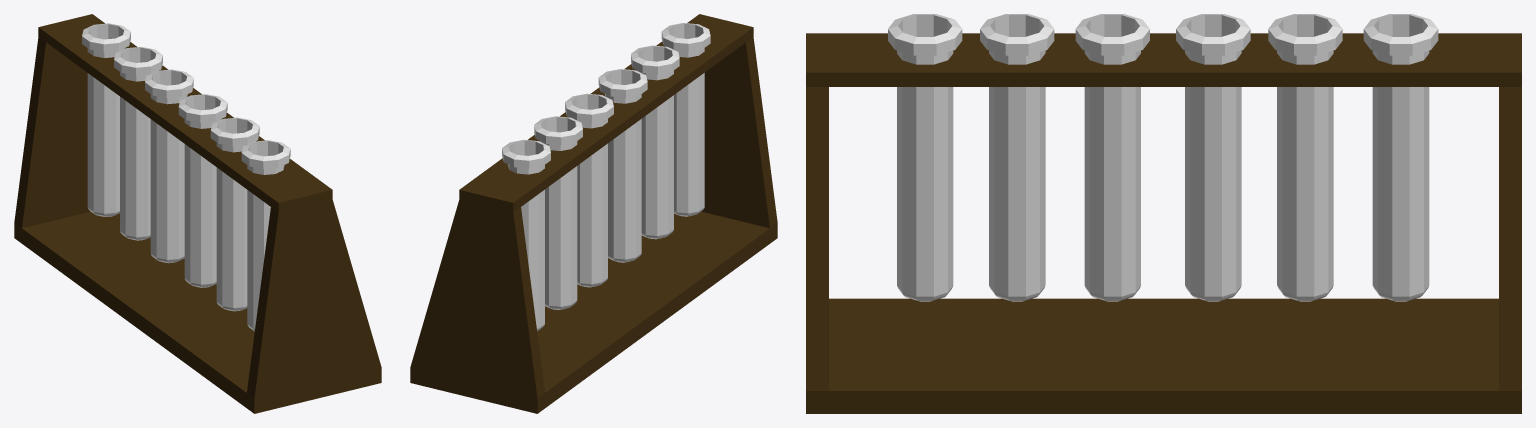
The model's file is provetastand.fbx.
The picture shows the model from 3 angles, left to right: view 1: azimuth 30°, elevation 25°; view 2: azimuth 150°, elevation 25°; view 3: azimuth 270°, elevation 25°; orthographic projection. The views are drawn at different scales.
Parts seen in each view (by area): view 1: Cube, Cylinder.003, Cylinder.002, Cylinder.005, Cylinder.001, Cylinder.004, Cylinder; view 2: Cube, Cylinder.002, Cylinder.004, Cylinder.001, Cylinder, Cylinder.003, Cylinder.005; view 3: Cube, Cylinder.005, Cylinder.003, Cylinder, Cylinder.002, Cylinder.001, Cylinder.004.
Boxes of the visible parts, <box> form: Cube: <box>14,14,381,413</box>; Cylinder.003: <box>145,69,193,263</box>; Cylinder.002: <box>178,94,227,287</box>; Cylinder.005: <box>82,23,130,216</box>; Cylinder.001: <box>210,117,259,311</box>; Cylinder.004: <box>114,47,162,240</box>; Cylinder: <box>241,140,290,331</box>; Cube: <box>410,14,777,413</box>; Cylinder.002: <box>598,69,647,262</box>; Cylinder.004: <box>534,116,582,309</box>; Cylinder.001: <box>631,45,679,239</box>; Cylinder: <box>661,23,710,216</box>; Cylinder.003: <box>565,93,613,287</box>; Cylinder.005: <box>502,140,550,331</box>; Cube: <box>806,33,1521,413</box>; Cylinder.005: <box>1363,14,1438,301</box>; Cylinder.003: <box>1176,14,1250,301</box>; Cylinder: <box>888,14,962,301</box>; Cylinder.002: <box>1075,14,1149,301</box>; Cylinder.001: <box>980,14,1054,301</box>; Cylinder.004: <box>1268,14,1342,301</box>.
Bounding box in the file's own units: 121 × 204 × 397.
